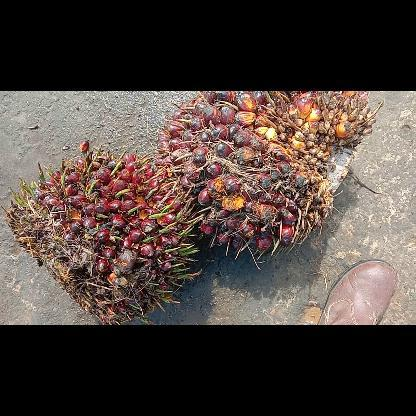Kurang masak: (6, 148, 198, 324)
TBS masak: (156, 90, 382, 260)
